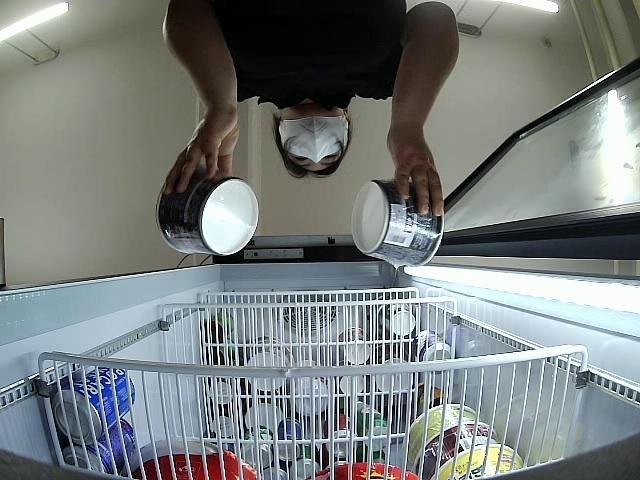07_buldak_L: (154, 170, 260, 254), (352, 182, 445, 268)
